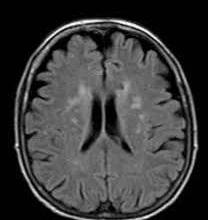Normal_Brain: (1, 1, 208, 220)
